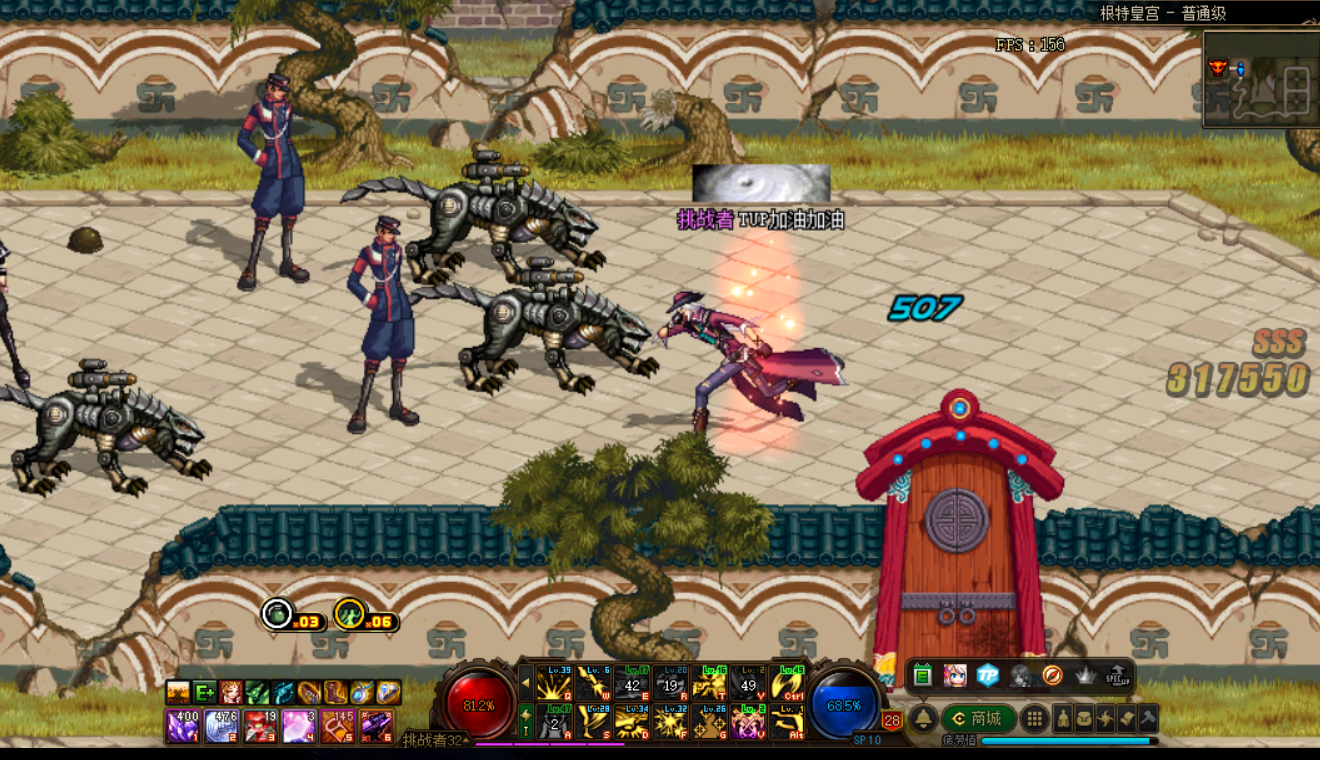monster: (358, 154, 603, 280), (12, 353, 221, 499), (438, 271, 655, 397), (320, 222, 432, 438), (225, 49, 319, 291)
warrior: (644, 268, 834, 454)
